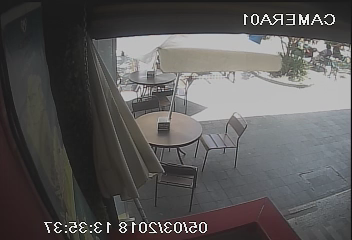libre: (114, 94, 244, 197), (108, 49, 191, 110)
